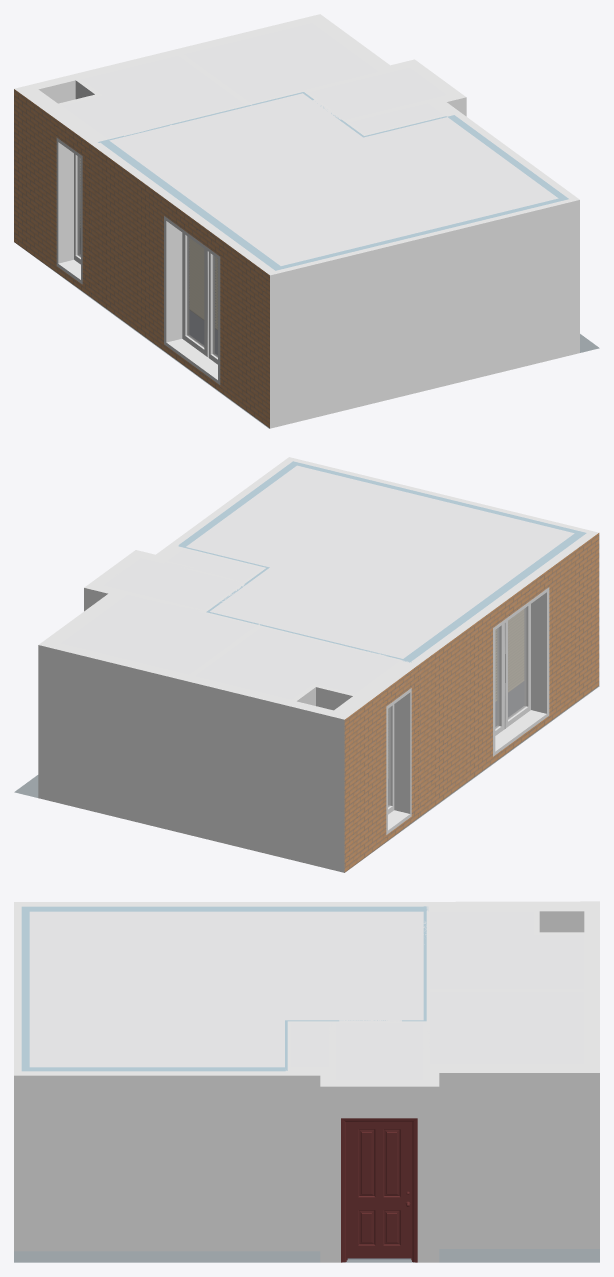
The model's file is userGuideExample.obj.
3 renders of one model, top to bottom at view 1: azimuth 30°, elevation 25°; view 2: azimuth 150°, elevation 25°; view 3: azimuth 270°, elevation 25°, orthographic. The views are drawn at different scales.
Parts seen in each view (by area): view 1: wall_5_27, room_1_203, wall_6_33, room_2_205, room_3_207, wall_7_39, room_4_209, 160, Tour_Fenetre_167, sweethome3d_window_pane_1_155, wall_6_34, wall_6_37 (+18 smaller); view 2: room_1_203, wall_8_45, wall_9_51, wall_6_33, room_2_205, room_3_207, wall_7_39, room_4_209, 160, Tour_Fenetre_167, sweethome3d_window_pane_149, wall_6_34 (+19 smaller); view 3: room_1_203, wall_11_63, wall_1_3, room_2_205, room_3_207, wall_3_15, Exterior_door_2_Exterior_door_2_PAINT_gloss_white_189, room_4_209, wall_10_57, ground_1, wall_6_37, 192 (+14 smaller).
Boxes of the visible parts, box(x1,y1,x2,y2) form: wall_5_27: box(270, 200, 579, 428); room_1_203: box(109, 93, 558, 265); wall_6_33: box(89, 144, 269, 428); room_2_205: box(183, 22, 379, 103); room_3_207: box(61, 55, 245, 138); wall_7_39: box(14, 89, 89, 296); room_4_209: box(307, 67, 451, 134); 160: box(164, 216, 220, 384); Tour_Fenetre_167: box(56, 137, 82, 284); sweethome3d_window_pane_1_155: box(187, 236, 204, 347); wall_6_34: box(90, 141, 274, 274); wall_6_37: box(101, 139, 280, 270); room_1_203: box(186, 465, 574, 658); wall_8_45: box(187, 681, 344, 872); wall_9_51: box(38, 645, 187, 834); wall_6_33: box(418, 533, 599, 817); room_2_205: box(60, 594, 256, 674); room_3_207: box(194, 627, 399, 699); wall_7_39: box(344, 665, 418, 872); room_4_209: box(103, 549, 262, 610); 160: box(493, 587, 549, 756); Tour_Fenetre_167: box(386, 688, 411, 834); sweethome3d_window_pane_149: box(508, 607, 526, 719); wall_6_34: box(410, 532, 598, 664); room_1_203: box(29, 911, 426, 1067); wall_11_63: box(14, 1075, 285, 1251); wall_1_3: box(439, 1073, 599, 1248); room_2_205: box(426, 992, 584, 1064); room_3_207: box(427, 911, 584, 989); wall_3_15: box(320, 1086, 439, 1262); Exterior_door_2_Exterior_door_2_PAINT_gloss_white_189: box(347, 1122, 411, 1258); room_4_209: box(290, 1021, 426, 1083); wall_10_57: box(285, 1075, 320, 1251); ground_1: box(14, 1249, 599, 1262); wall_6_37: box(22, 906, 428, 911); 192: box(341, 1118, 417, 1262).
Size of the model in its own units: 565 by 250 by 755.
